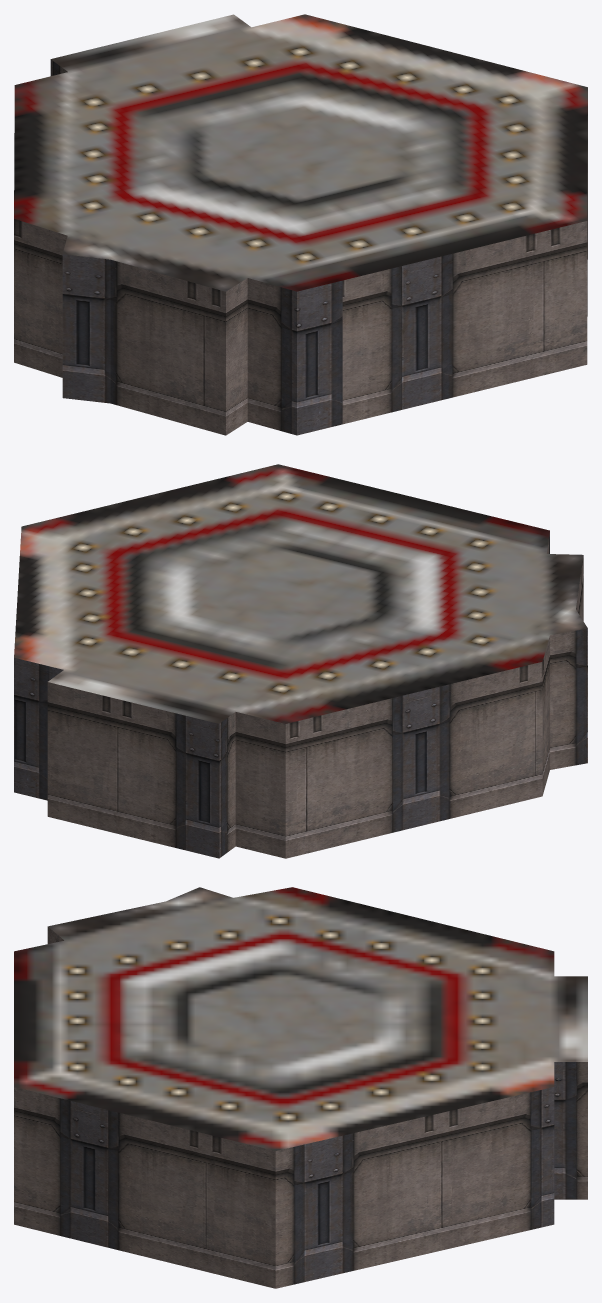
File: bsealed_hard_17.glb
The picture shows the model from 3 angles, top to bottom: view 1: azimuth 30°, elevation 25°; view 2: azimuth 150°, elevation 25°; view 3: azimuth 270°, elevation 25°; orthographic projection. The views are drawn at different scales.
Parts seen in each view (by area): view 1: buildings/saxarba/bsealed_hard/bsealed_hard_17; view 2: buildings/saxarba/bsealed_hard/bsealed_hard_17; view 3: buildings/saxarba/bsealed_hard/bsealed_hard_17.
Part boxes in pixels (x1,y1,x2,y2): buildings/saxarba/bsealed_hard/bsealed_hard_17: (14,14,587,435); buildings/saxarba/bsealed_hard/bsealed_hard_17: (14,464,587,858); buildings/saxarba/bsealed_hard/bsealed_hard_17: (14,887,587,1288).
Bounding box in the file's own units: 74 × 18 × 68.
